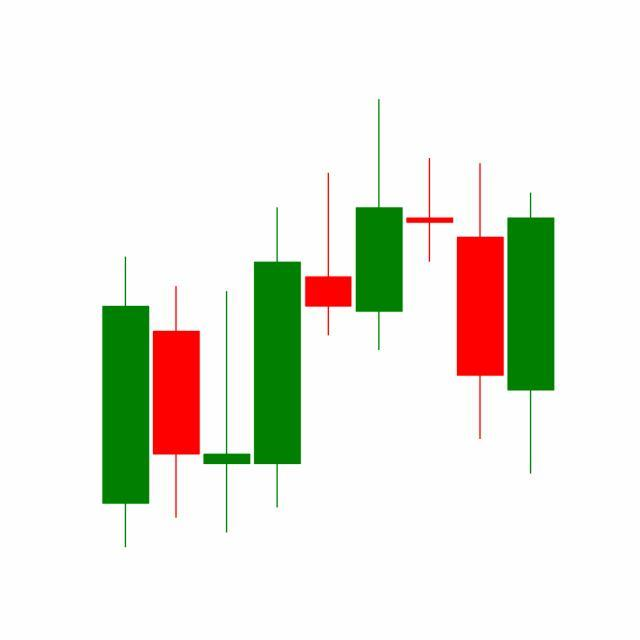Hikkake Pattern: (252, 99, 506, 513)
